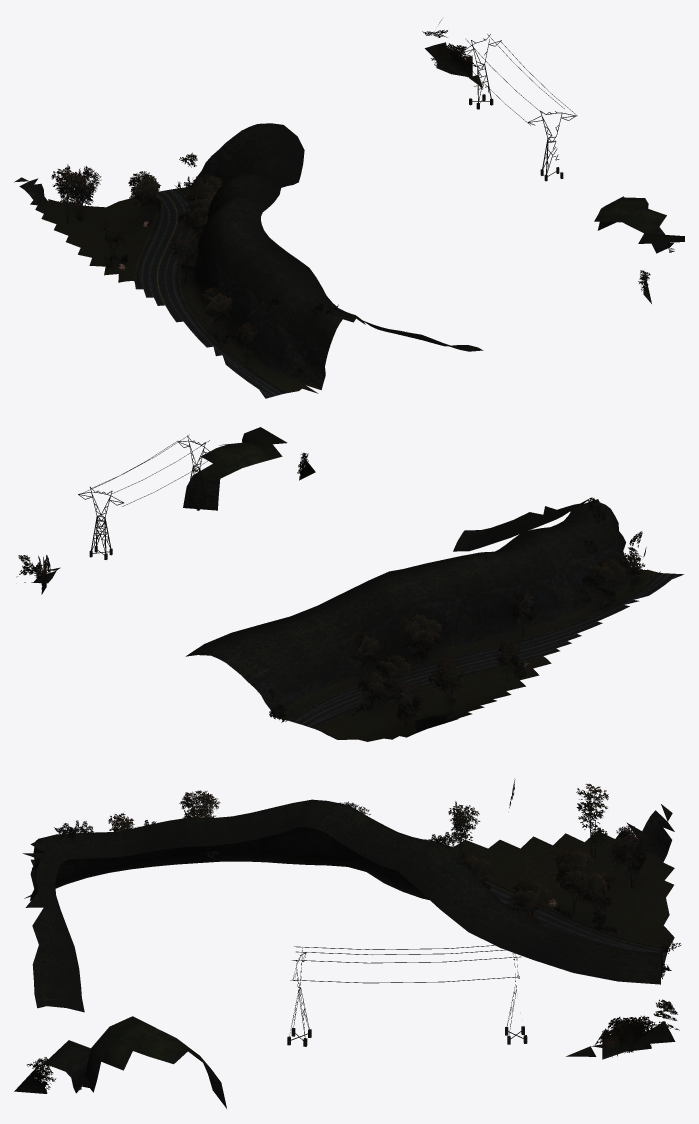
Rendered from cell_8_-12.gltf.
The picture shows the model from 3 angles, top to bottom: view 1: azimuth 30°, elevation 25°; view 2: azimuth 150°, elevation 25°; view 3: azimuth 270°, elevation 25°; orthographic projection. The views are drawn at different scales.
Visible parts, largest first — view 1: cell_8_-12; view 2: cell_8_-12; view 3: cell_8_-12.
Part boxes in pixels (box(x1,y1,x2,y2)): cell_8_-12: box(14, 17, 684, 398); cell_8_-12: box(16, 427, 683, 741); cell_8_-12: box(14, 778, 681, 1108).
Size of the model in its own units: 270 by 80.51 by 271.
Materials: 34 (34 with a texture image).
